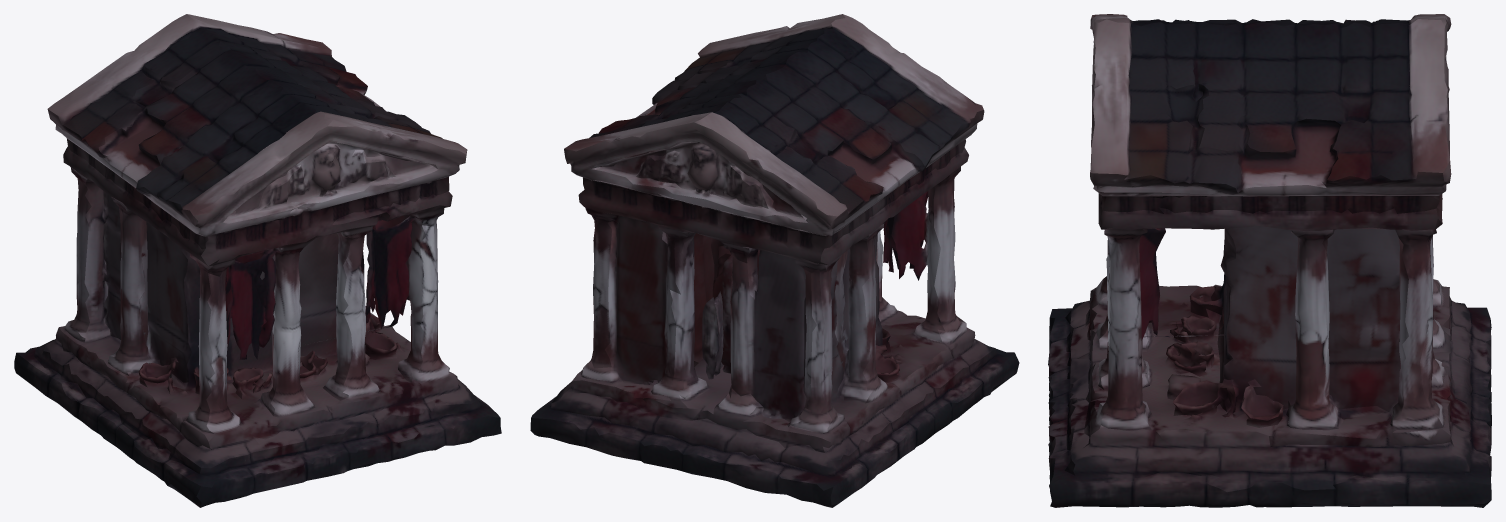
Rendered from temple1_LOD1.glb.
3 views of the same model, side by side, from view 1: azimuth 30°, elevation 25°; view 2: azimuth 150°, elevation 25°; view 3: azimuth 270°, elevation 25° (orthographic). The views are drawn at different scales.
Size of the model in its own units: 0.9493 by 0.9991 by 0.999.
1 material, 1 textured.
